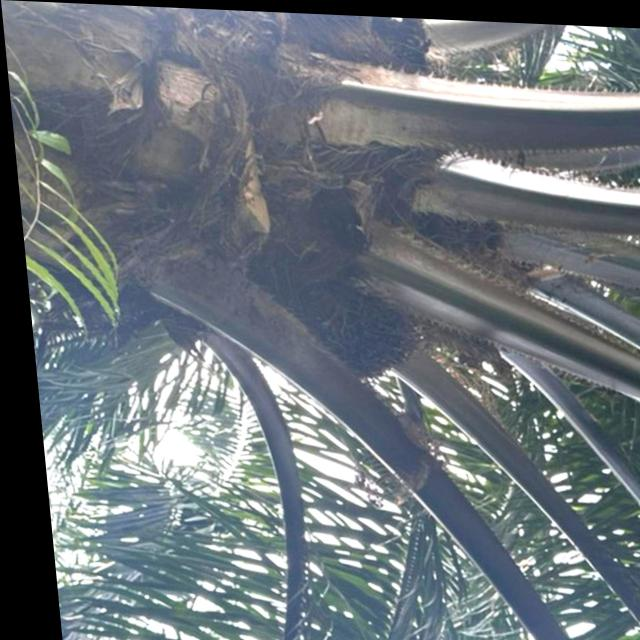unripe: (300, 272, 426, 390)
